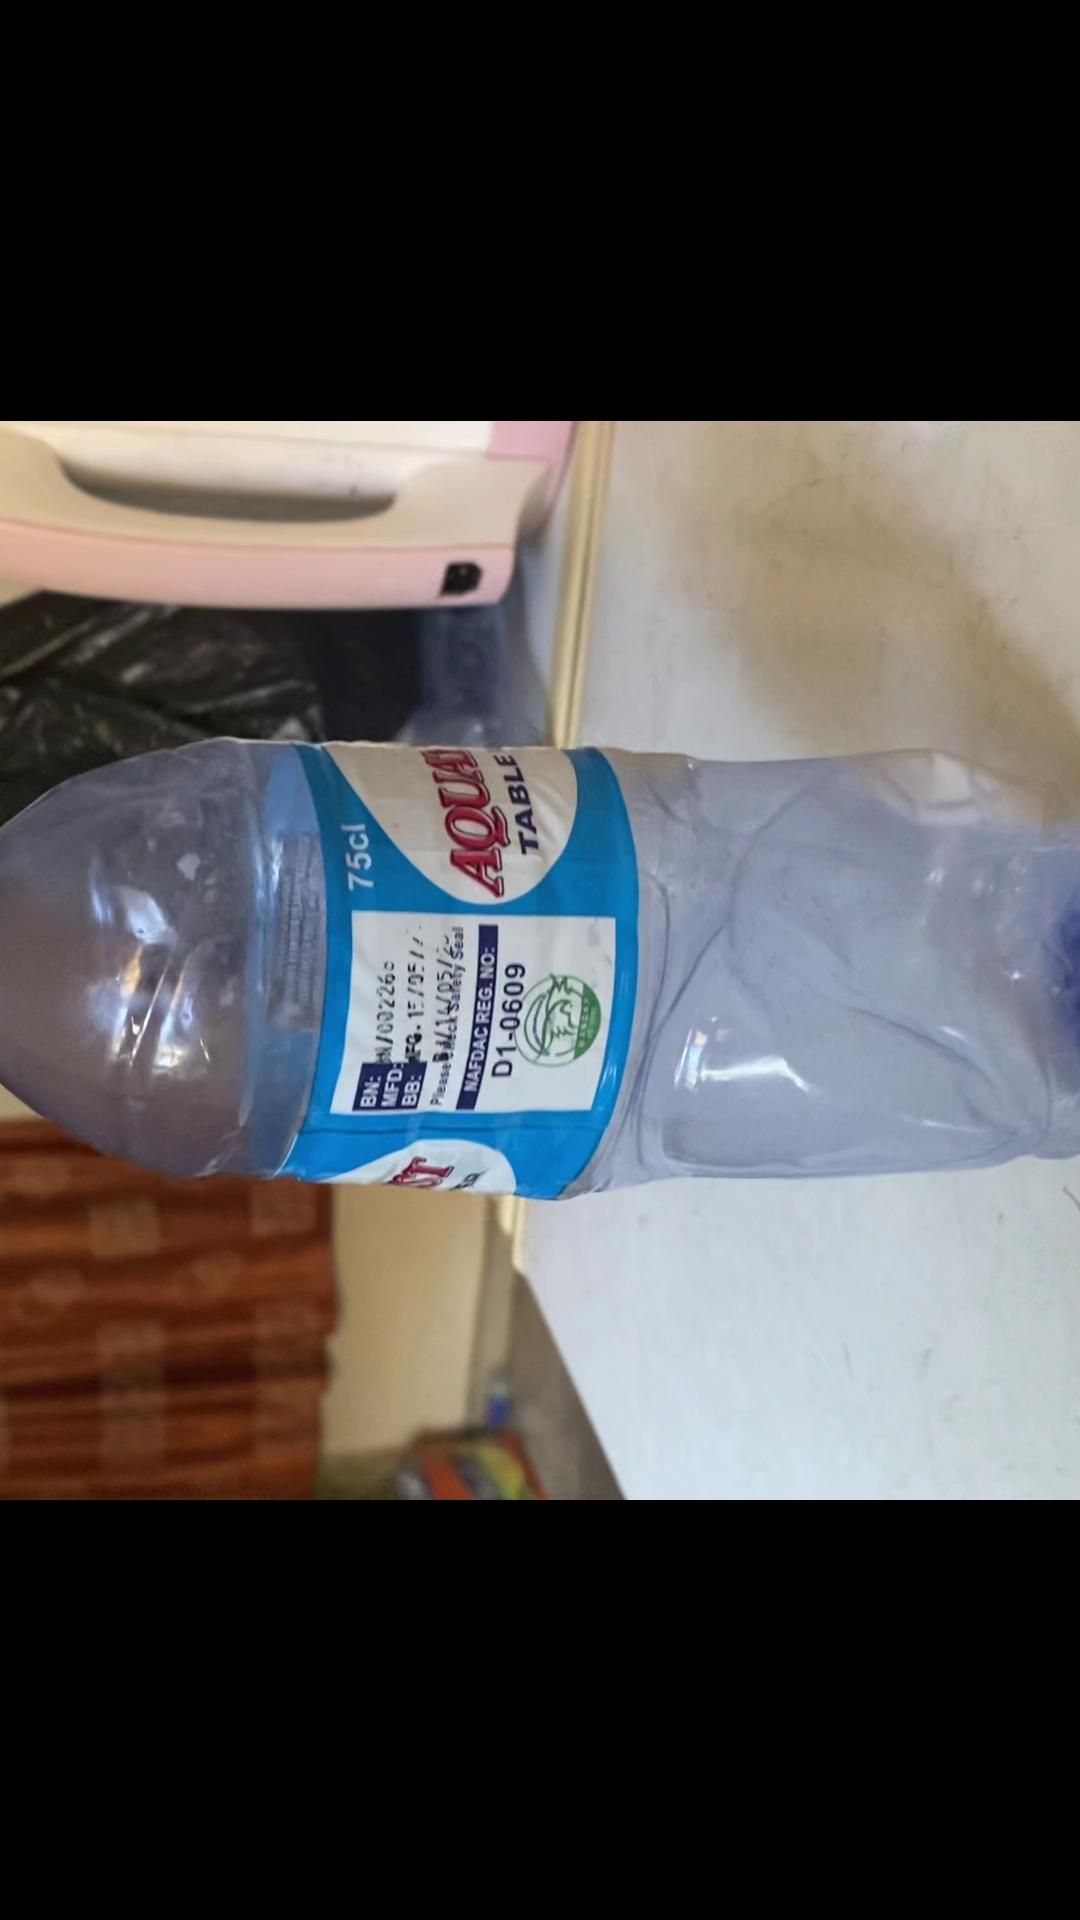crumbled: (0, 727, 1080, 1199)
label: (284, 745, 620, 1179)
